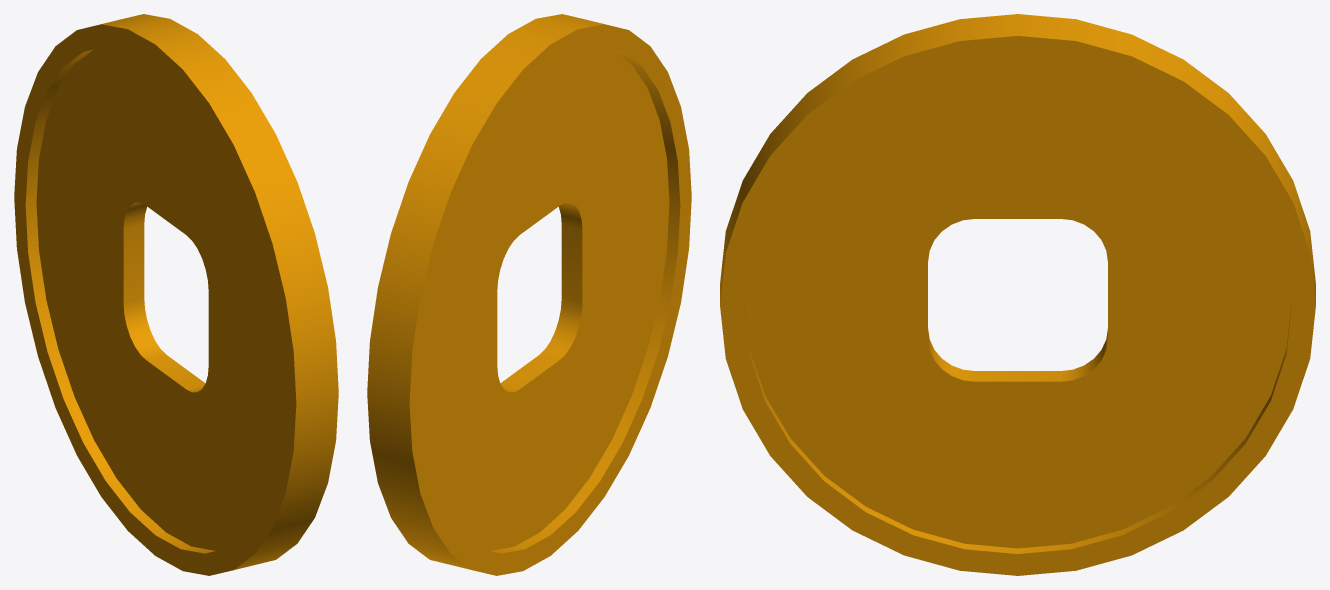
The model's file is coin.fbx.
3 renders of one model, left to right at view 1: azimuth 30°, elevation 25°; view 2: azimuth 150°, elevation 25°; view 3: azimuth 270°, elevation 25°, orthographic. The views are drawn at different scales.
Visible parts, largest first — view 1: Circle; view 2: Circle; view 3: Circle.
Part boxes in pixels (box(x1,y1,x2,y2)): Circle: box(14, 14, 338, 575); Circle: box(367, 14, 691, 575); Circle: box(720, 14, 1315, 575).
Bounding box in the file's own units: 17.35 × 200 × 200.
